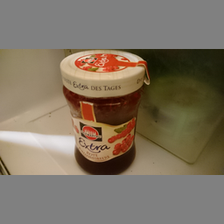jam: (60, 50, 150, 174)
